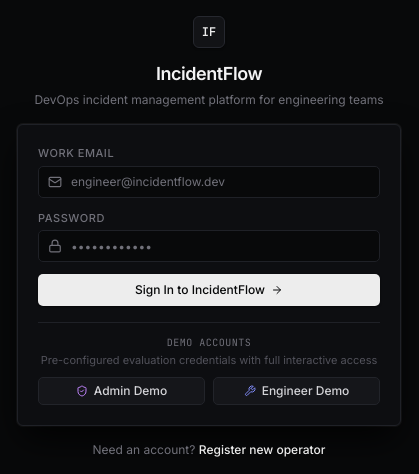
Test case: LoginPage Flow › populates fields when Admin Demo button is clicked
Click the button "Admin Demo" at [122, 391], box [38,377,205,405]
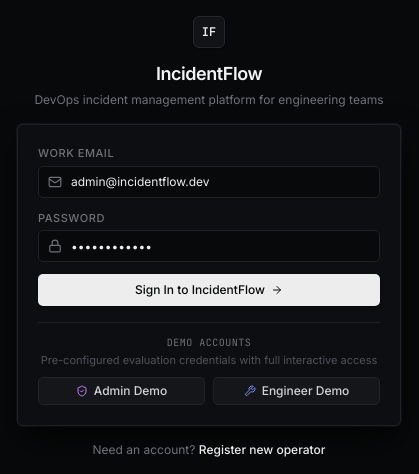
Expected: the field with placeholder "engineer@incidentflow.dev" holds "admin@incidentflow.dev", [38,166,380,198]
Click the button "Engineer Demo" at [296, 391], box [213,377,380,405]
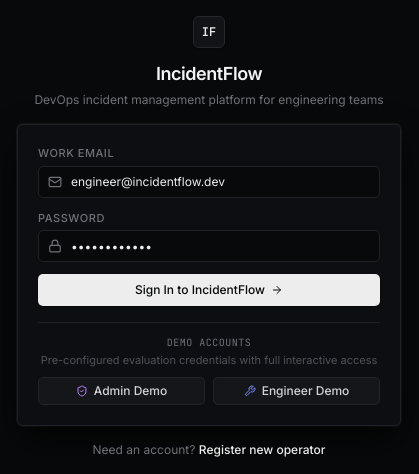
Expected: the field with placeholder "engineer@incidentflow.dev" holds "engineer@incidentflow.dev", [38,166,380,198]
